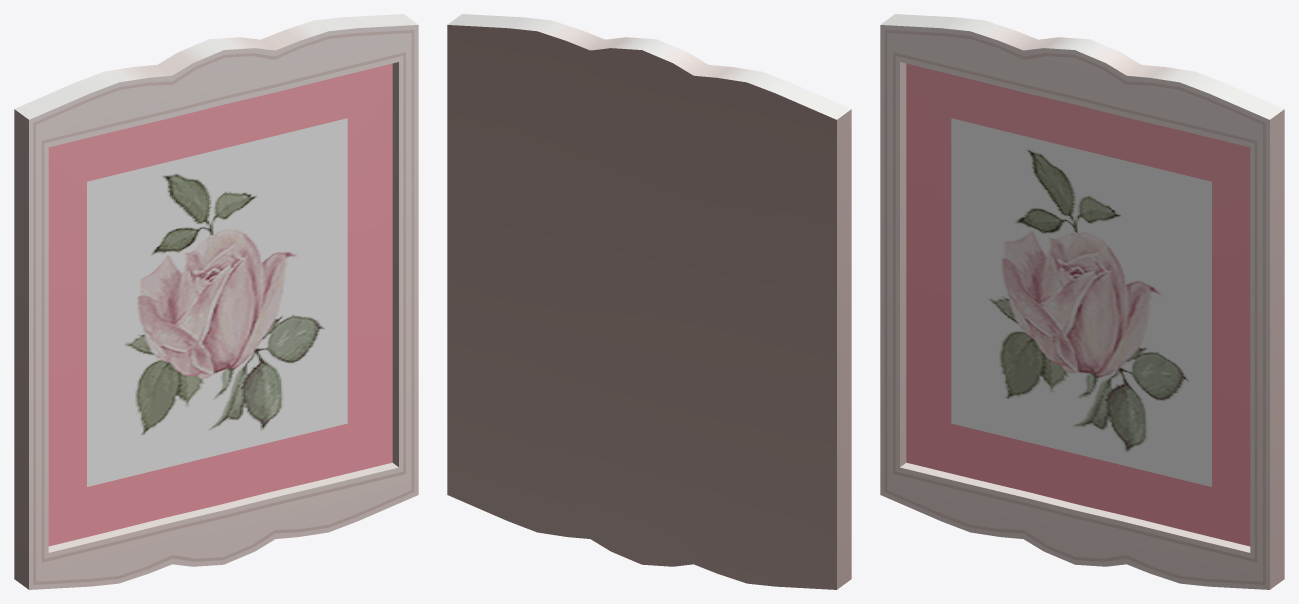
File: Doll_OB_Frame_001.FBX
3 views of the same model, side by side, from view 1: azimuth 30°, elevation 25°; view 2: azimuth 150°, elevation 25°; view 3: azimuth 330°, elevation 25° (orthographic).
Visible parts, largest first — view 1: Doll_OB_Frame_001; view 2: Doll_OB_Frame_001; view 3: Doll_OB_Frame_001.
Part boxes in pixels (x1,y1,x2,y2): Doll_OB_Frame_001: (14, 14, 418, 589); Doll_OB_Frame_001: (447, 14, 851, 589); Doll_OB_Frame_001: (880, 14, 1284, 589).
Size of the model in its own units: 32.93 by 41.57 by 2.18.
